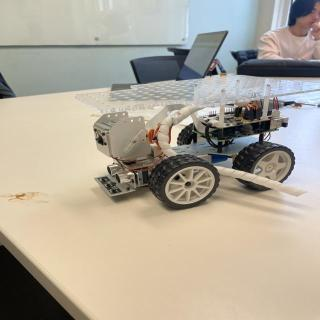vehicle: (75, 75, 303, 210)
